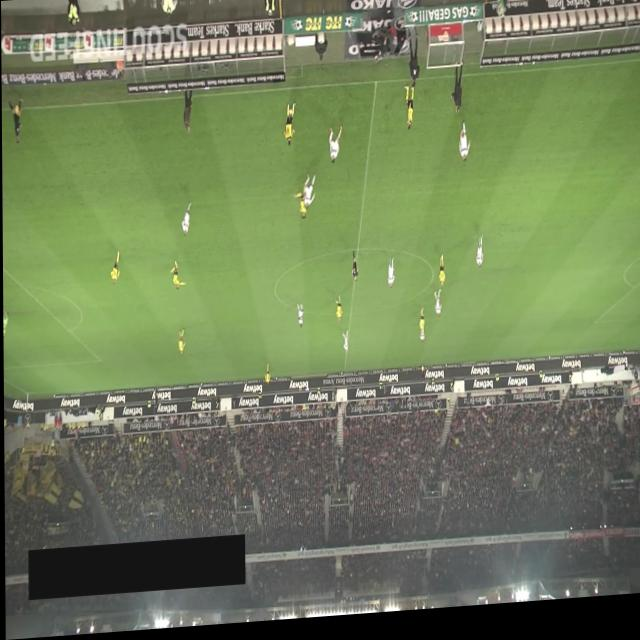player: (282, 105, 296, 150), (327, 129, 341, 168), (458, 127, 470, 169), (169, 261, 185, 292), (403, 89, 413, 136), (302, 177, 315, 213), (180, 203, 191, 240), (294, 193, 306, 223), (109, 251, 119, 286), (437, 259, 445, 294), (386, 262, 394, 295), (475, 242, 483, 275), (432, 294, 441, 323), (176, 329, 184, 358), (333, 299, 341, 327), (2, 305, 8, 336), (296, 306, 302, 332), (417, 312, 423, 337), (341, 334, 347, 358), (263, 366, 269, 388), (419, 326, 424, 349)
referee: (6, 96, 23, 144), (350, 255, 357, 286), (418, 369, 424, 390)
